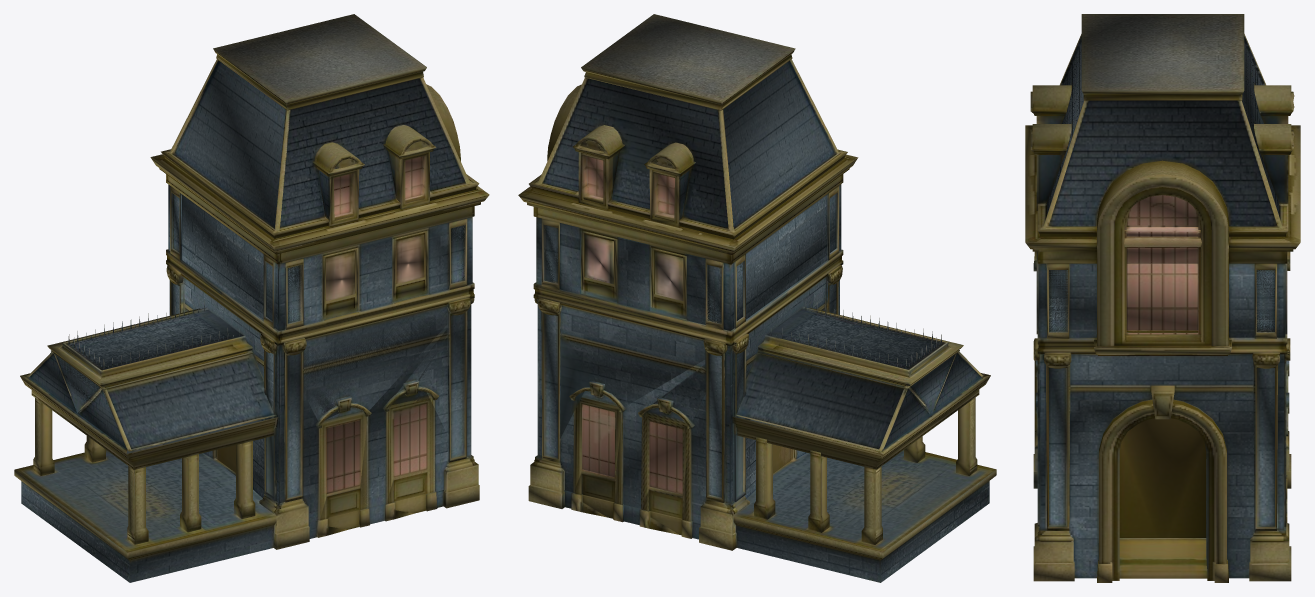
File: tripo_convert_0b52d461-db4e-4e51-ad9b-719ba031ba25.fbx
3 views of the same model, side by side, from view 1: azimuth 30°, elevation 25°; view 2: azimuth 150°, elevation 25°; view 3: azimuth 270°, elevation 25° (orthographic). The views are drawn at different scales.
Visible parts, largest first — view 1: tripo_node_0b52d461; view 2: tripo_node_0b52d461; view 3: tripo_node_0b52d461.
Boxes of the visible parts, bbox=[...] form: tripo_node_0b52d461: bbox=[14, 14, 489, 582]; tripo_node_0b52d461: bbox=[518, 14, 996, 582]; tripo_node_0b52d461: bbox=[1025, 14, 1300, 582].
Bounding box in the file's own units: 0.8965 × 0.998 × 0.5254.
1 material, 1 textured.
